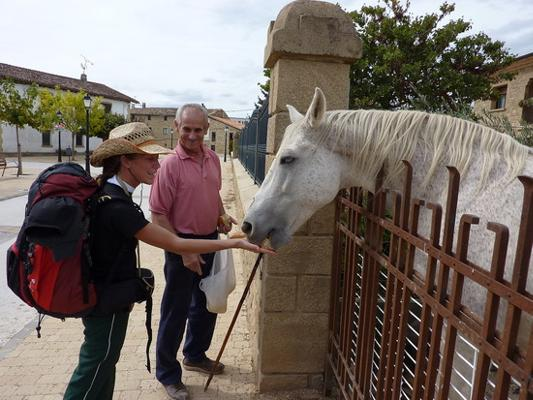person: (61, 121, 280, 400)
